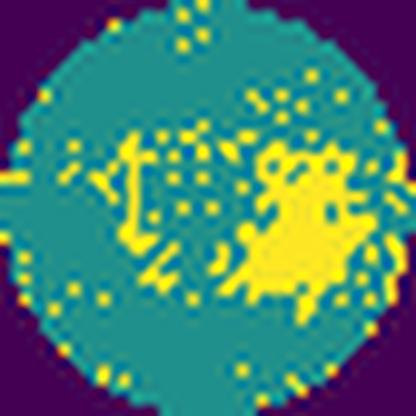Loc: (214, 140, 376, 324), (116, 125, 162, 255)
